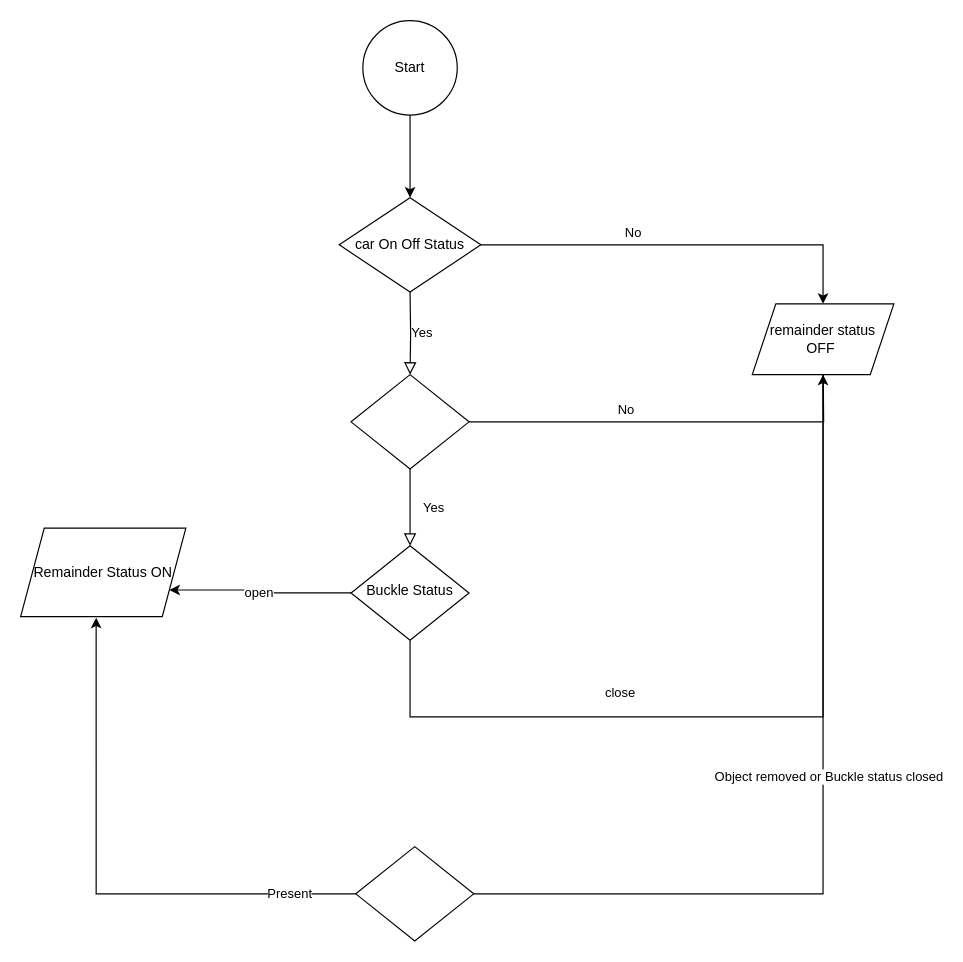
Some shapes in this 963 by 962 pixel diagram are drawn without their labels. Here are the shapes that lost their labels. From the top down, the box of each, then its label:
(350, 373, 469, 469): Driver Occupation
(355, 845, 474, 941): Object on seat
